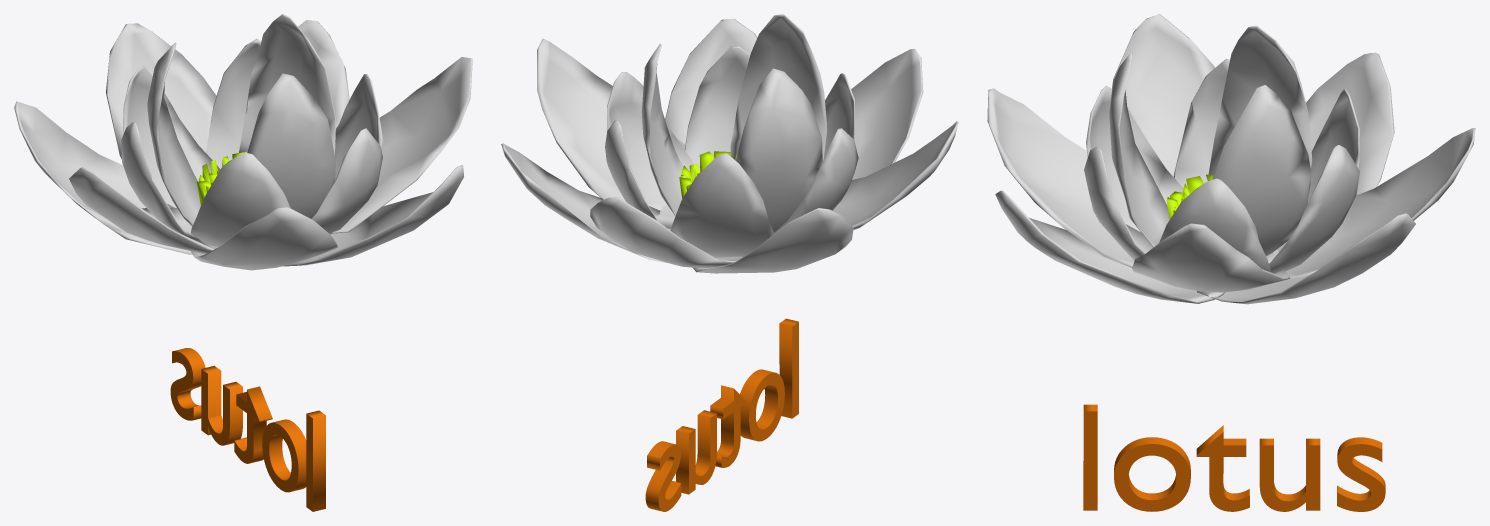
The model's file is lotus no.2.gltf.
3 views of the same model, side by side, from view 1: azimuth 30°, elevation 25°; view 2: azimuth 150°, elevation 25°; view 3: azimuth 270°, elevation 25° (orthographic). The views are drawn at different scales.
Parts seen in each view (by area): view 1: Text, lotu_petal_13, lotu_petal_05, lotu_petal_00, lotu_petal_01, lotu_petal_15, lotu_petal_07, lotu_petal_03, lotu_petal_04, lotu_petal_14, lotu_petal_02, lotu_petal_08 (+6 smaller); view 2: Text, lotu_petal_14, lotu_petal_05, lotu_petal_11, lotu_petal_03, lotu_petal_13, lotu_petal_01, lotu_petal_08, lotu_petal_02, lotu_petal_00, lotu_petal_09, lotu_petal_04 (+6 smaller); view 3: Text, lotu_petal_15, lotu_petal_03, lotu_petal_02, lotu_petal_00, lotu_petal_05, lotu_petal_01, lotu_petal_14, lotu_petal_04, lotu_petal_13, lotu_petal_06, lotu_petal_10 (+6 smaller).
Part boxes in pixels (<box>): Text: <box>170,348,325,511</box>; lotu_petal_13: <box>247,73,335,218</box>; lotu_petal_05: <box>331,57,472,233</box>; lotu_petal_00: <box>106,23,216,159</box>; lotu_petal_01: <box>14,101,192,254</box>; lotu_petal_15: <box>239,14,336,155</box>; lotu_petal_07: <box>190,152,290,246</box>; lotu_petal_03: <box>191,207,337,270</box>; lotu_petal_04: <box>283,165,463,266</box>; lotu_petal_14: <box>147,42,200,226</box>; lotu_petal_02: <box>69,167,218,254</box>; lotu_petal_08: <box>311,128,382,234</box>; Text: <box>645,318,798,511</box>; lotu_petal_14: <box>735,68,822,232</box>; lotu_petal_05: <box>537,39,685,228</box>; lotu_petal_11: <box>670,153,774,257</box>; lotu_petal_03: <box>851,49,923,179</box>; lotu_petal_13: <box>730,14,827,160</box>; lotu_petal_01: <box>692,208,853,273</box>; lotu_petal_08: <box>684,46,750,169</box>; lotu_petal_02: <box>832,121,958,229</box>; lotu_petal_00: <box>590,197,742,268</box>; lotu_petal_09: <box>607,72,700,210</box>; lotu_petal_04: <box>665,19,757,144</box>; Text: <box>1083,404,1385,511</box>; lotu_petal_15: <box>1212,85,1311,256</box>; lotu_petal_03: <box>987,88,1134,267</box>; lotu_petal_02: <box>1112,14,1214,238</box>; lotu_petal_00: <box>1272,128,1475,280</box>; lotu_petal_05: <box>1132,223,1290,292</box>; lotu_petal_01: <box>1306,52,1394,195</box>; lotu_petal_14: <box>1208,25,1312,175</box>; lotu_petal_04: <box>995,190,1224,303</box>; lotu_petal_13: <box>1109,51,1169,247</box>; lotu_petal_06: <box>1197,213,1415,304</box>; lotu_petal_10: <box>1269,145,1359,273</box>.
Size of the model in its own units: 3.1 by 3.1 by 3.04.
